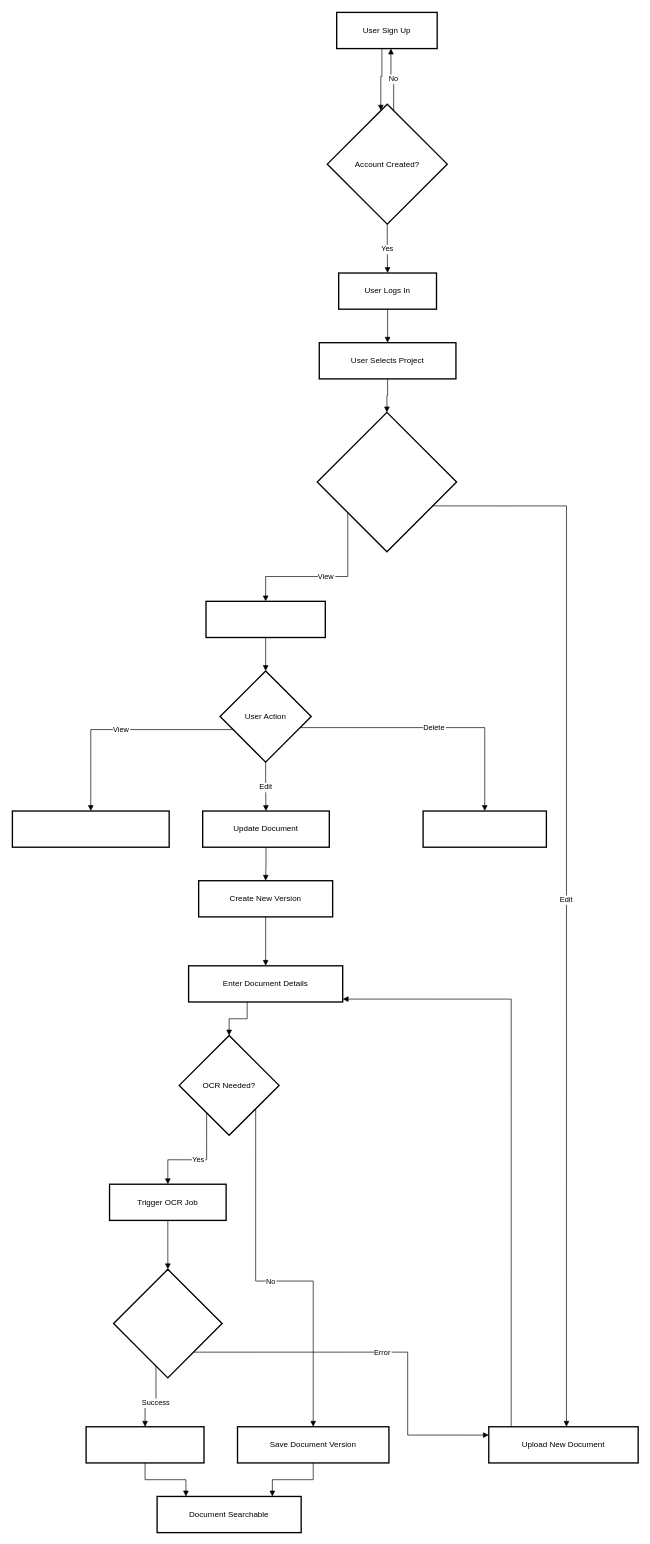
The diagram is 650 pixels wide and 1544 high, and some of its shapes have lost their labels. Here are the shapes that lost their labels. From the top down, the box of each, then its label:
(316, 411, 457, 552): User Role Permissions
(205, 600, 326, 638): Read Documents
(11, 810, 170, 848): Read Document Content
(422, 810, 547, 848): Delete Document
(113, 1268, 222, 1378): OCR Job Status
(85, 1426, 204, 1463): Save OCR Result
